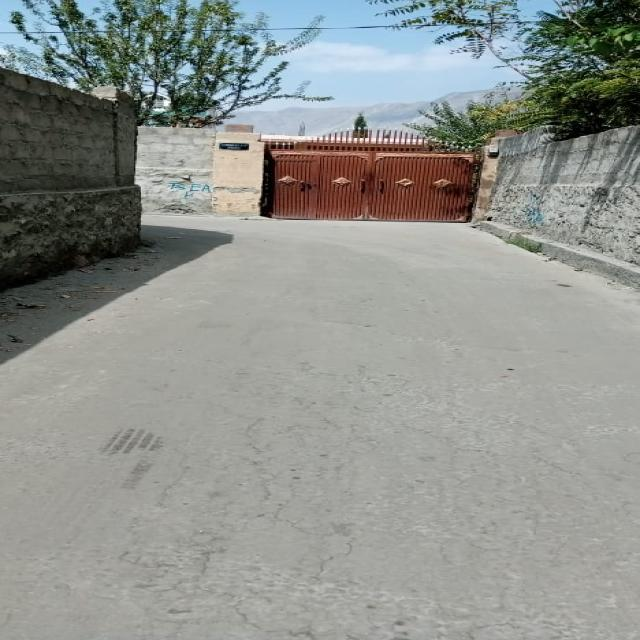Left-Turn: (145, 213, 358, 299)
